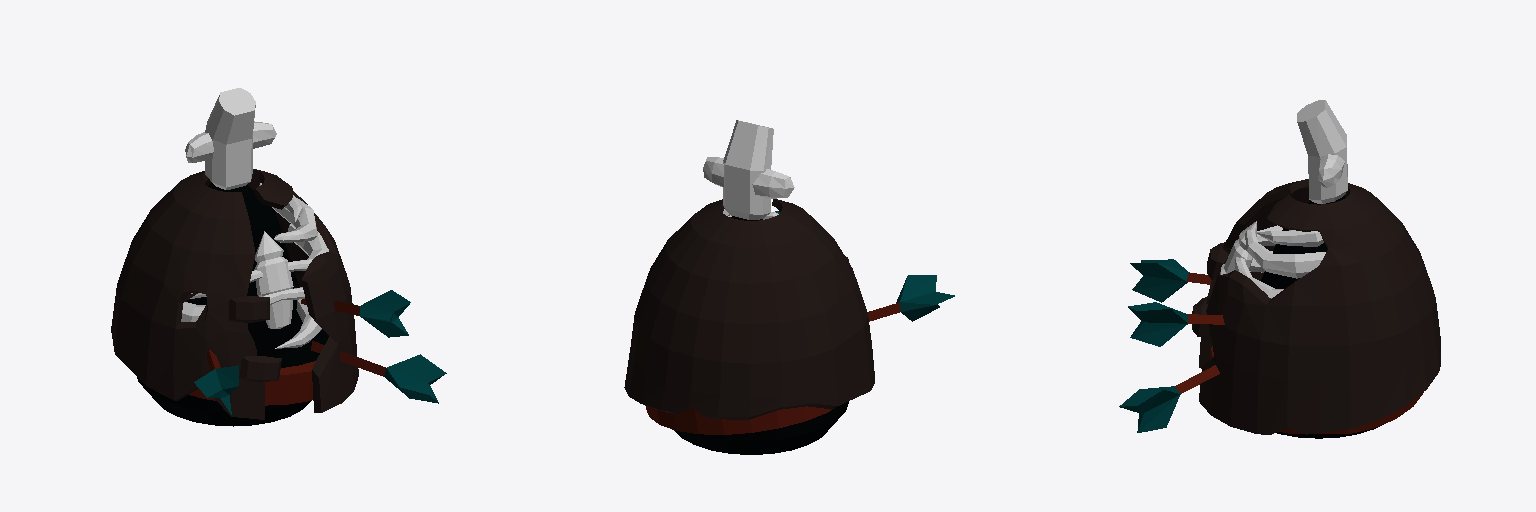
File: character_skeleton_mage_body_broken.obj
3 views of the same model, side by side, from view 1: azimuth 30°, elevation 25°; view 2: azimuth 150°, elevation 25°; view 3: azimuth 270°, elevation 25° (orthographic).
Visible parts, largest first — view 1: character_skeleton_mage_body_broken_Cube.7674; view 2: character_skeleton_mage_body_broken_Cube.7674; view 3: character_skeleton_mage_body_broken_Cube.7674.
Part boxes in pixels (x1,y1,x2,y2): character_skeleton_mage_body_broken_Cube.7674: (111, 88, 446, 426); character_skeleton_mage_body_broken_Cube.7674: (624, 120, 954, 454); character_skeleton_mage_body_broken_Cube.7674: (1119, 100, 1440, 438).
Bounding box in the file's own units: 0.8437 × 1.02 × 0.9941.